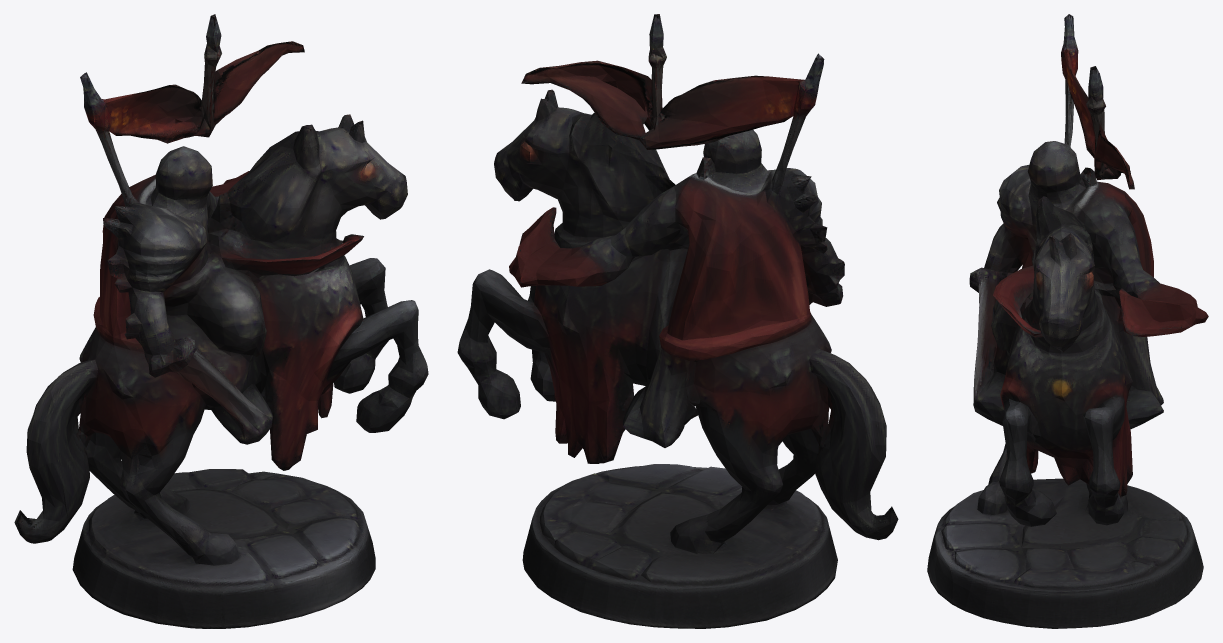
3 views of the same model, side by side, from view 1: azimuth 30°, elevation 25°; view 2: azimuth 150°, elevation 25°; view 3: azimuth 270°, elevation 25° (orthographic). The views are drawn at different scales.
Visible parts, largest first — view 1: world; view 2: world; view 3: world.
Boxes of the visible parts, x1,y1,x2,y2 form: world: [14, 14, 428, 628]; world: [457, 14, 898, 628]; world: [927, 14, 1208, 628].
Size of the model in its own units: 0.4508 by 0.5812 by 0.2926.
1 material, 1 textured.
